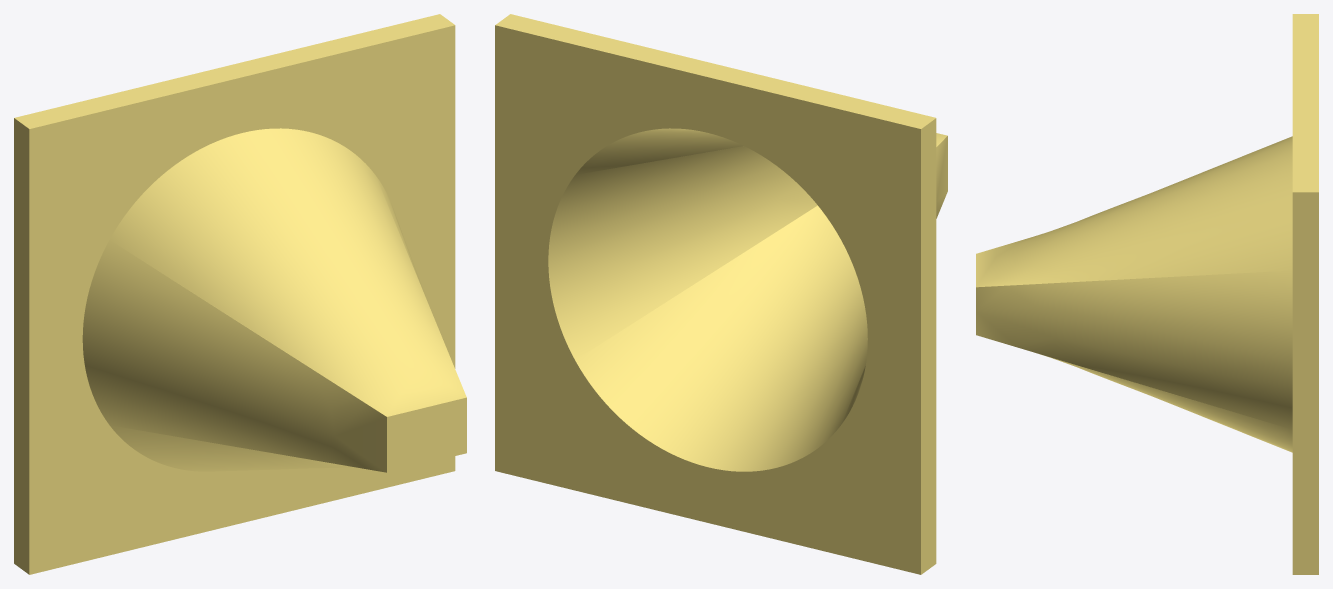
3 renders of one model, left to right at view 1: azimuth 30°, elevation 25°; view 2: azimuth 150°, elevation 25°; view 3: azimuth 270°, elevation 25°, orthographic. The views are drawn at different scales.
Parts seen in each view (by area): view 1: model_part; view 2: model_part; view 3: model_part.
Boxes of the visible parts, x1,y1,x2,y2 form: model_part: [14, 14, 466, 574]; model_part: [495, 14, 947, 574]; model_part: [976, 14, 1318, 574].
Bounding box in the file's own units: 4 × 4 × 3.25.
